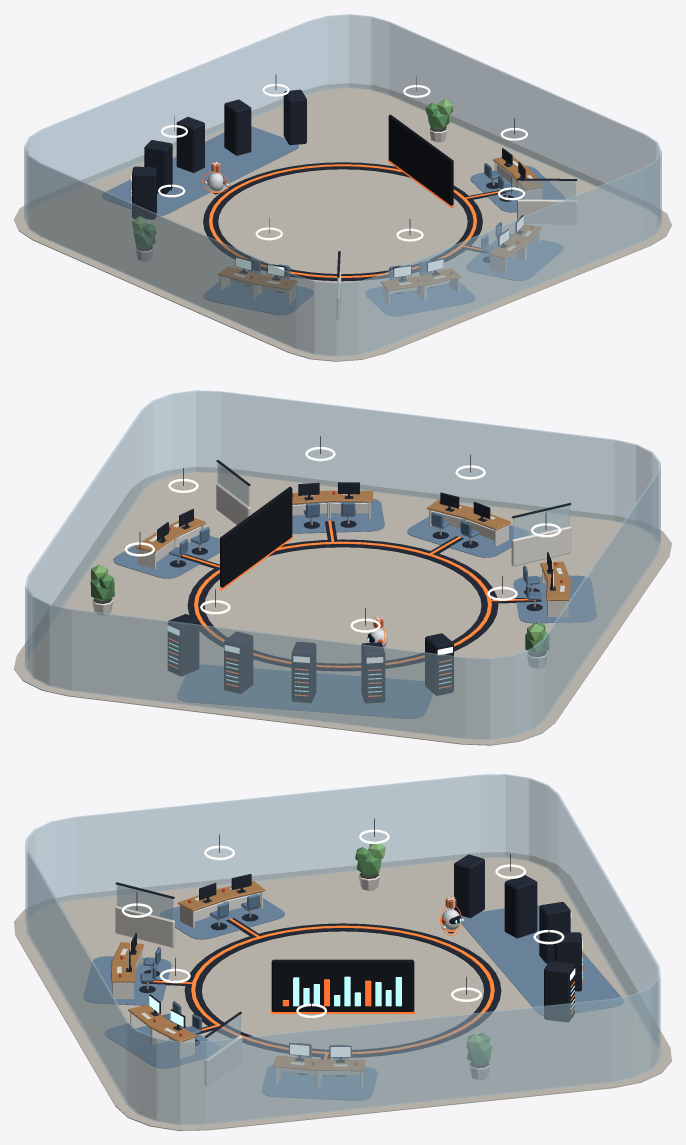
Rendered from interior_F05.glb.
3 views of the same model, one above another, from view 1: azimuth 30°, elevation 25°; view 2: azimuth 150°, elevation 25°; view 3: azimuth 270°, elevation 25° (orthographic). The views are drawn at different scales.
Visible parts, largest first — view 1: AR_TorreHZK_F05_PeleJateada, AR_TorreHZK_F05_PisoAcab, AR_TorreHZK_F05_Tapete_5, AR_TorreHZK_F05_AnelBase, AR_TorreHZK_F05_Painel, AR_TorreHZK_F05_Divisoria_28, AR_TorreHZK_F05_Tapete_11, AR_TorreHZK_F05_Tapete_6, AR_TorreHZK_F05_Tapete_16, AR_TorreHZK_F05_Servidor2, AR_TorreHZK_F05_Servidor1, AR_TorreHZK_F05_AnelLuz (+14 smaller); view 2: AR_TorreHZK_F05_PeleJateada, AR_TorreHZK_F05_PisoAcab, AR_TorreHZK_F05_Tapete_5, AR_TorreHZK_F05_AnelBase, AR_TorreHZK_F05_Painel, AR_TorreHZK_F05_Divisoria_27, AR_TorreHZK_F05_Tapete_6, AR_TorreHZK_F05_Tapete_11, AR_TorreHZK_F05_Servidor0, AR_TorreHZK_F05_Servidor4, AR_TorreHZK_F05_Servidor1, AR_TorreHZK_F05_Tapete_21 (+16 smaller); view 3: AR_TorreHZK_F05_PeleJateada, AR_TorreHZK_F05_PisoAcab, AR_TorreHZK_F05_Painel, AR_TorreHZK_F05_Tapete_5, AR_TorreHZK_F05_AnelBase, AR_TorreHZK_F05_Divisoria_27, AR_TorreHZK_F05_Tapete_21, AR_TorreHZK_F05_Tapete_16, AR_TorreHZK_F05_Tapete_11, AR_TorreHZK_F05_AnelLuz, AR_TorreHZK_F05_Servidor3, AR_TorreHZK_F05_Divisoria_28 (+17 smaller).
Part boxes in pixels (x1=…): AR_TorreHZK_F05_PeleJateada: x1=24, y1=14, x2=661, y2=356; AR_TorreHZK_F05_PisoAcab: x1=14, y1=83, x2=671, y2=361; AR_TorreHZK_F05_Tapete_5: x1=102, y1=126, x2=298, y2=216; AR_TorreHZK_F05_AnelBase: x1=203, y1=162, x2=482, y2=281; AR_TorreHZK_F05_Painel: x1=388, y1=114, x2=453, y2=205; AR_TorreHZK_F05_Divisoria_28: x1=517, y1=178, x2=577, y2=223; AR_TorreHZK_F05_Tapete_11: x1=365, y1=283, x2=475, y2=315; AR_TorreHZK_F05_Tapete_6: x1=203, y1=281, x2=313, y2=314; AR_TorreHZK_F05_Tapete_16: x1=466, y1=234, x2=563, y2=280; AR_TorreHZK_F05_Servidor2: x1=176, y1=117, x2=204, y2=172; AR_TorreHZK_F05_Servidor1: x1=224, y1=99, x2=251, y2=155; AR_TorreHZK_F05_AnelLuz: x1=209, y1=164, x2=476, y2=277; AR_TorreHZK_F05_PeleJateada: x1=25, y1=390, x2=660, y2=739; AR_TorreHZK_F05_PisoAcab: x1=14, y1=467, x2=671, y2=745; AR_TorreHZK_F05_Tapete_5: x1=177, y1=665, x2=433, y2=718; AR_TorreHZK_F05_AnelBase: x1=187, y1=539, x2=498, y2=671; AR_TorreHZK_F05_Painel: x1=220, y1=486, x2=292, y2=587; AR_TorreHZK_F05_Divisoria_27: x1=511, y1=503, x2=571, y2=566; AR_TorreHZK_F05_Tapete_6: x1=513, y1=575, x2=596, y2=623; AR_TorreHZK_F05_Tapete_11: x1=407, y1=512, x2=529, y2=557; AR_TorreHZK_F05_Servidor0: x1=168, y1=614, x2=199, y2=676; AR_TorreHZK_F05_Servidor4: x1=425, y1=633, x2=453, y2=695; AR_TorreHZK_F05_Servidor1: x1=224, y1=631, x2=252, y2=693; AR_TorreHZK_F05_Tapete_21: x1=113, y1=535, x2=219, y2=578; AR_TorreHZK_F05_PeleJateada: x1=25, y1=774, x2=660, y2=1125; AR_TorreHZK_F05_PisoAcab: x1=14, y1=852, x2=671, y2=1130; AR_TorreHZK_F05_Painel: x1=271, y1=959, x2=414, y2=1011; AR_TorreHZK_F05_Tapete_5: x1=460, y1=905, x2=623, y2=1015; AR_TorreHZK_F05_AnelBase: x1=184, y1=923, x2=501, y2=1057; AR_TorreHZK_F05_Divisoria_27: x1=115, y1=882, x2=174, y2=947; AR_TorreHZK_F05_Tapete_21: x1=262, y1=1064, x2=377, y2=1100; AR_TorreHZK_F05_Tapete_16: x1=104, y1=1022, x2=219, y2=1068; AR_TorreHZK_F05_Tapete_11: x1=83, y1=956, x2=171, y2=1005; AR_TorreHZK_F05_AnelLuz: x1=191, y1=925, x2=494, y2=1053; AR_TorreHZK_F05_Servidor3: x1=504, y1=875, x2=537, y2=938; AR_TorreHZK_F05_Divisoria_28: x1=204, y1=1011, x2=242, y2=1086.
Size of the model in its own units: 23.06 by 3.33 by 23.06.
